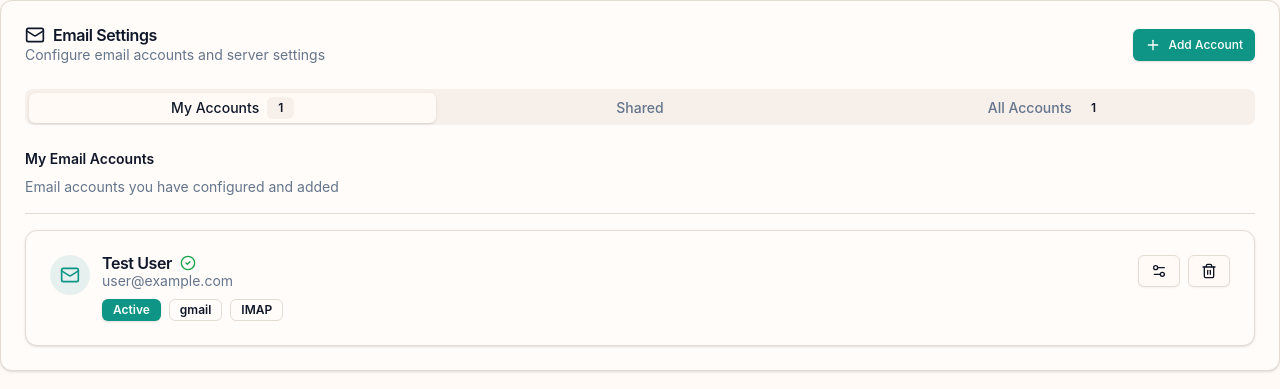
Test: EmailSettingsSection › admin tab › should switch to All Accounts tab when clicked
This screenshot has width=1280, height=389.
Click the tab "All Accounts 1" at (1047, 108), box [844,93,1251,123]
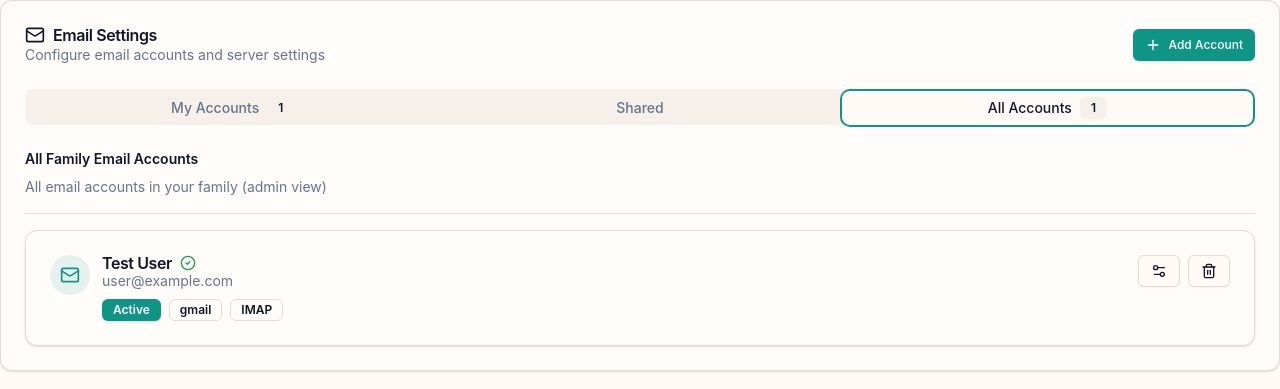
Now the heading "All Family Email Accounts" is shown, box [25,150,198,167]
